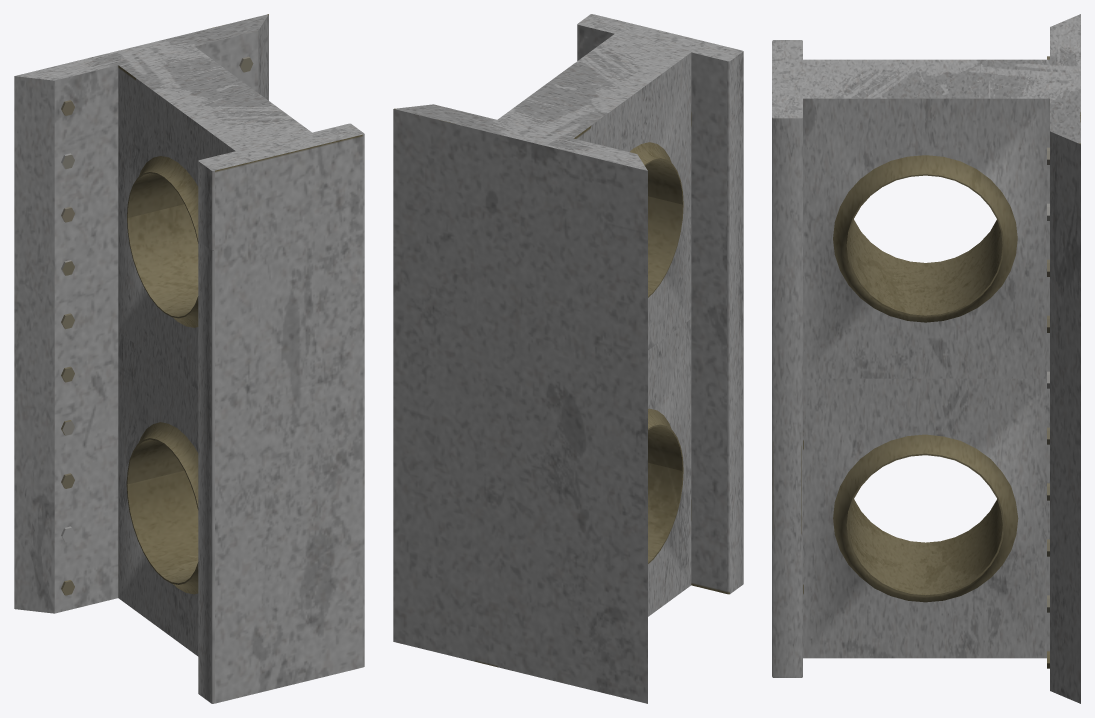
File: FI-039 SupportBeam_Wall.fbx
3 renders of one model, left to right at view 1: azimuth 30°, elevation 25°; view 2: azimuth 150°, elevation 25°; view 3: azimuth 270°, elevation 25°, orthographic. The views are drawn at different scales.
Visible parts, largest first — view 1: FI-039-SupportBeam_Wall; view 2: FI-039-SupportBeam_Wall; view 3: FI-039-SupportBeam_Wall.
Boxes of the visible parts, x1=… form: FI-039-SupportBeam_Wall: x1=14, y1=14, x2=364, y2=703; FI-039-SupportBeam_Wall: x1=393, y1=14, x2=743, y2=703; FI-039-SupportBeam_Wall: x1=772, y1=14, x2=1080, y2=703.
Size of the model in its own units: 100 by 200 by 100.
